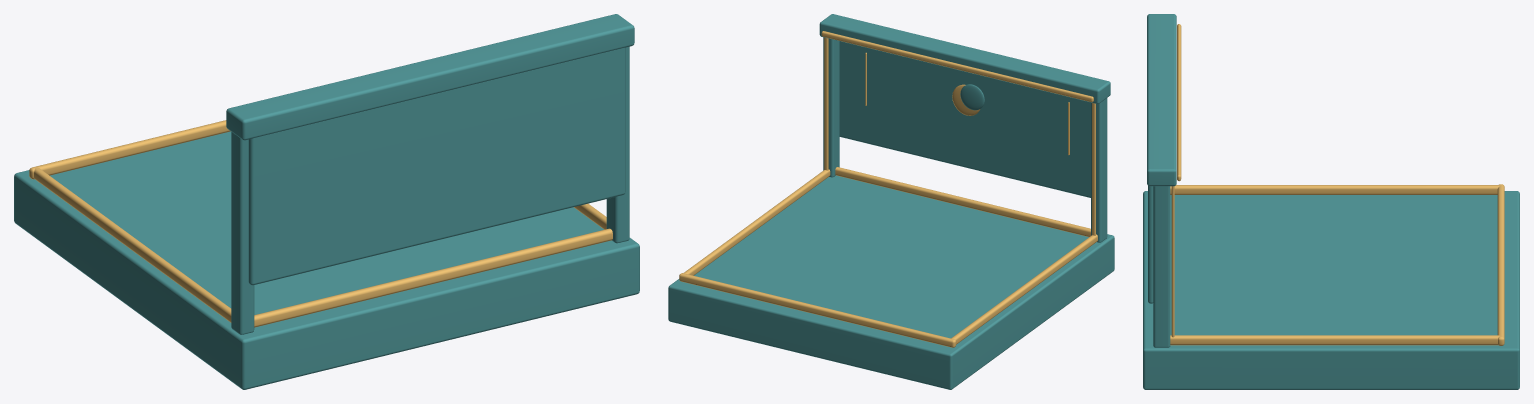
Rendered from Cabinet.fbx.
The picture shows the model from 3 angles, left to right: view 1: azimuth 30°, elevation 25°; view 2: azimuth 150°, elevation 25°; view 3: azimuth 270°, elevation 25°; orthographic projection. The views are drawn at different scales.
Parts seen in each view (by area): view 1: Cabinet body, Curtain backdrop, Canopy, Cabinet gold rim.001, Back column.001, Cabinet gold side rim.001, Cabinet gold rim, Back column; view 2: Cabinet body, Curtain backdrop, Canopy, Cabinet gold rim, Cabinet gold rim.001, Back column, Canopy trim, Back column.001, Cabinet gold side rim.001, Cabinet gold side rim, Column inlay, Column inlay.001 (+1 smaller); view 3: Cabinet body, Canopy, Cabinet gold side rim, Cabinet gold side rim.001, Back column, Cabinet gold rim, Canopy trim, Curtain backdrop, Column inlay.
Part boxes in pixels (x1,y1,x2,y2): Cabinet body: (14, 131, 639, 389); Curtain backdrop: (248, 47, 625, 285); Canopy: (226, 14, 634, 140); Cabinet gold rim.001: (254, 228, 612, 327); Back column.001: (231, 132, 254, 334); Cabinet gold side rim.001: (34, 167, 231, 322); Cabinet gold rim: (29, 120, 230, 179); Back column: (606, 46, 629, 243); Cabinet body: (668, 175, 1114, 389); Curtain backdrop: (839, 41, 1090, 197); Canopy: (819, 14, 1110, 103); Cabinet gold rim: (679, 273, 956, 347); Cabinet gold rim.001: (835, 167, 1090, 236); Back column: (823, 37, 839, 177); Canopy trim: (821, 31, 1093, 102); Back column.001: (1091, 98, 1107, 242); Cabinet gold side rim.001: (951, 234, 1097, 344); Cabinet gold side rim: (683, 169, 830, 275); Column inlay: (824, 37, 828, 170); Column inlay.001: (1092, 103, 1095, 235); Cabinet body: (1143, 191, 1519, 389); Canopy: (1147, 14, 1176, 186); Cabinet gold side rim: (1170, 335, 1500, 345); Cabinet gold side rim.001: (1170, 185, 1500, 194); Back column: (1153, 186, 1170, 347); Cabinet gold rim: (1497, 184, 1504, 345); Canopy trim: (1177, 24, 1181, 181); Curtain backdrop: (1148, 186, 1153, 303); Column inlay: (1171, 186, 1174, 337).
Bounding box in the file's own units: 7 × 4.5 × 7.
